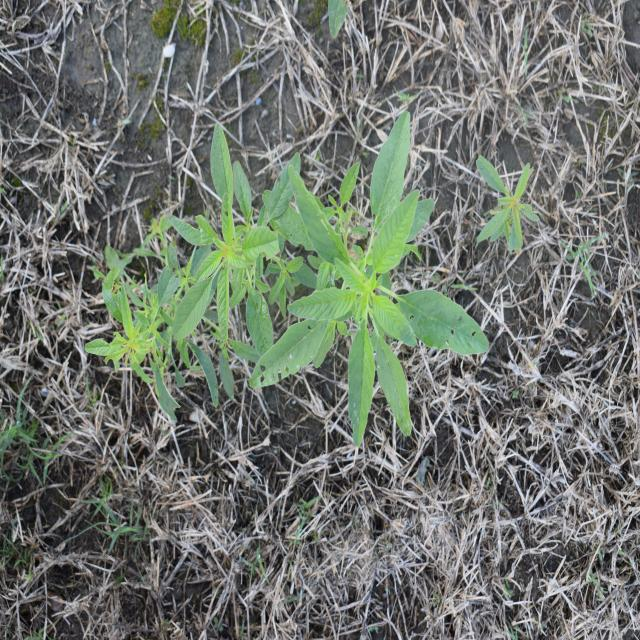Waterhemp: (83, 108, 490, 450), (473, 152, 542, 253)
